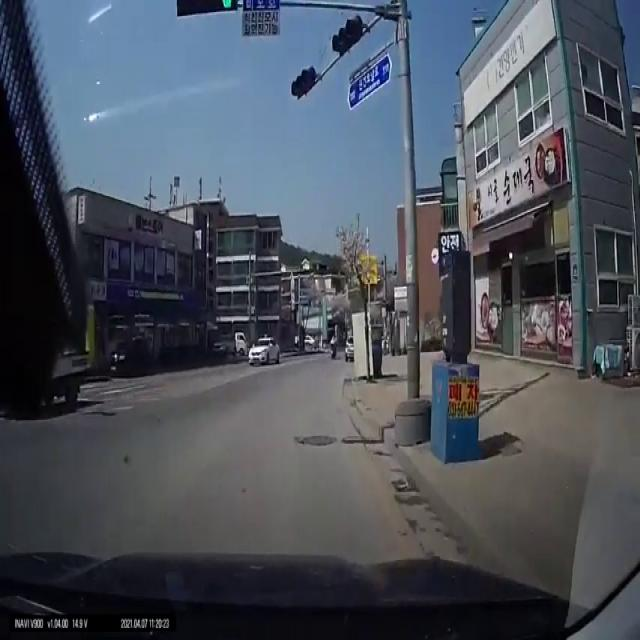Pothole: (300, 432, 340, 449)
